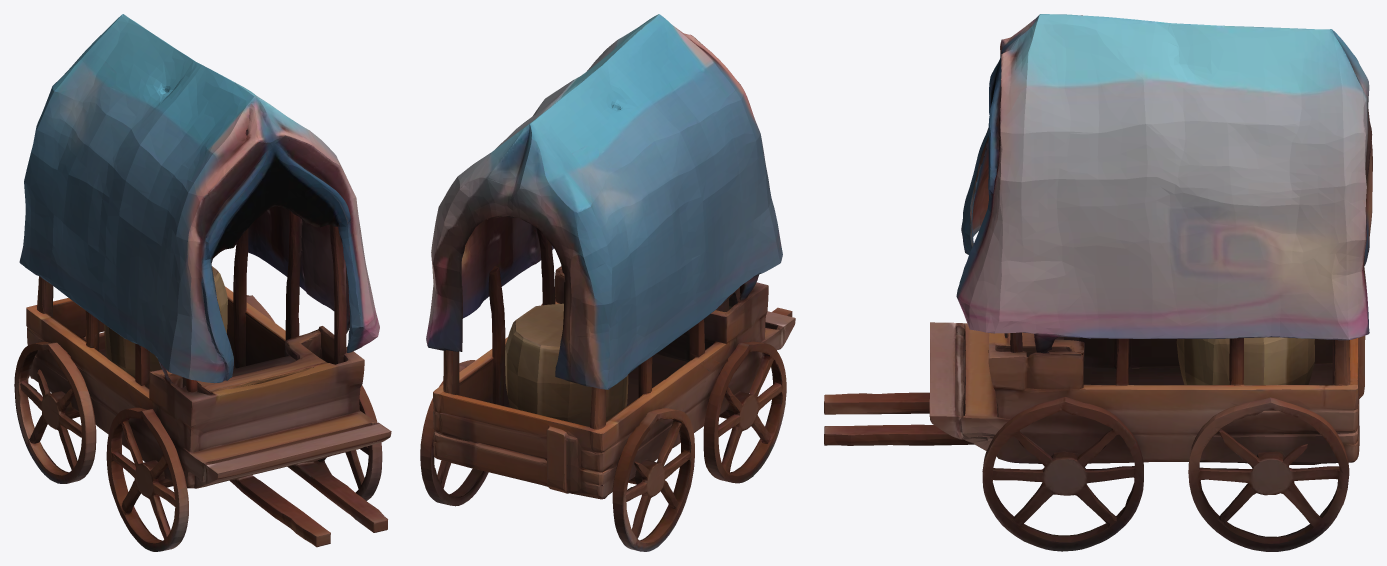
The model's file is partflow_t02.glb.
3 views of the same model, side by side, from view 1: azimuth 30°, elevation 25°; view 2: azimuth 150°, elevation 25°; view 3: azimuth 270°, elevation 25° (orthographic). The views are drawn at different scales.
Visible parts, largest first — view 1: geometry_0; view 2: geometry_0; view 3: geometry_0.
Part boxes in pixels (bbox=[...]): geometry_0: bbox=[14, 14, 391, 551]; geometry_0: bbox=[420, 14, 795, 551]; geometry_0: bbox=[824, 14, 1372, 551].
Size of the model in its own units: 0.9596 by 1.93 by 1.99.
1 material, 1 textured.
